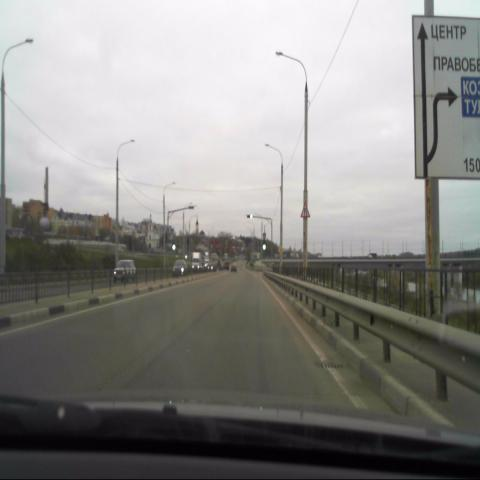1_20_2: (300, 202, 310, 217)
